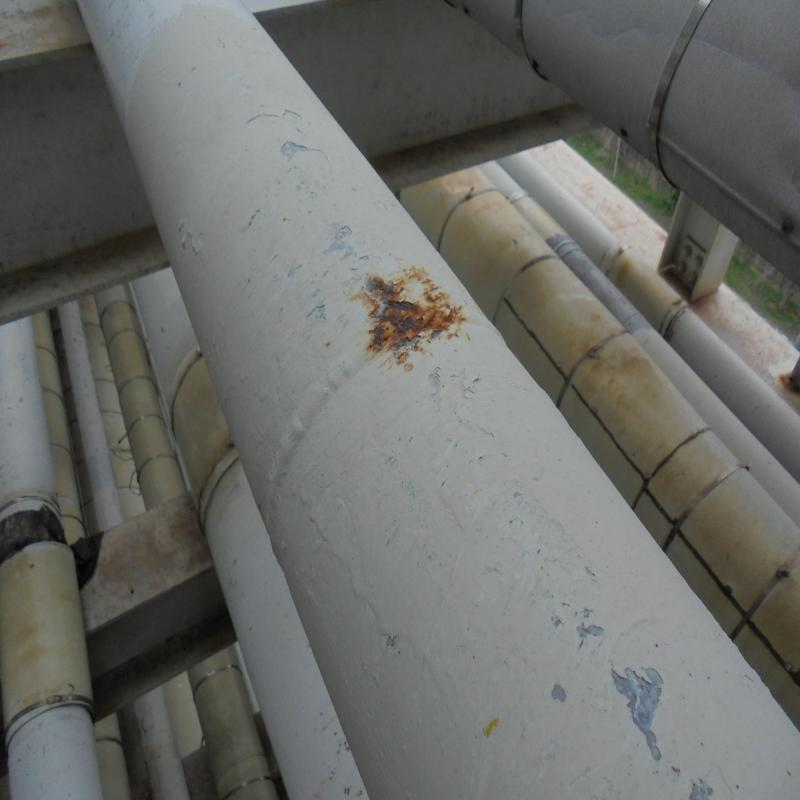corrosion: (372, 276, 448, 350), (375, 276, 452, 346)
